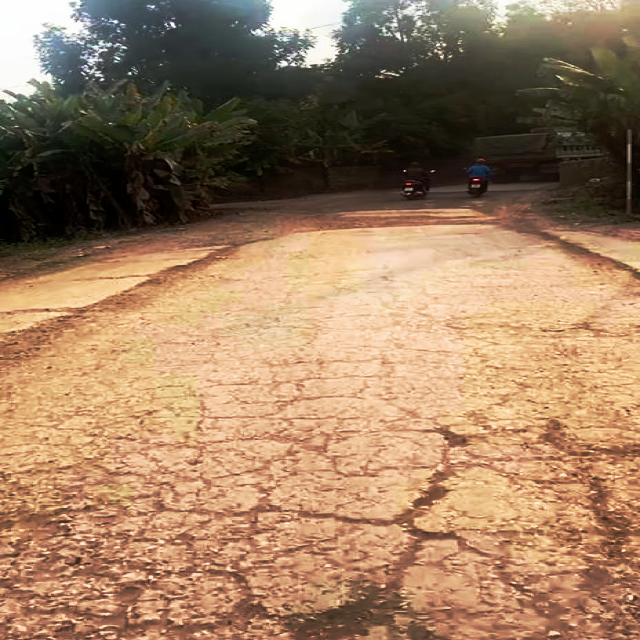pothole: (230, 569, 425, 640)
